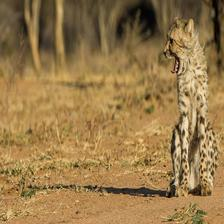Cheetah: (160, 17, 221, 198)
